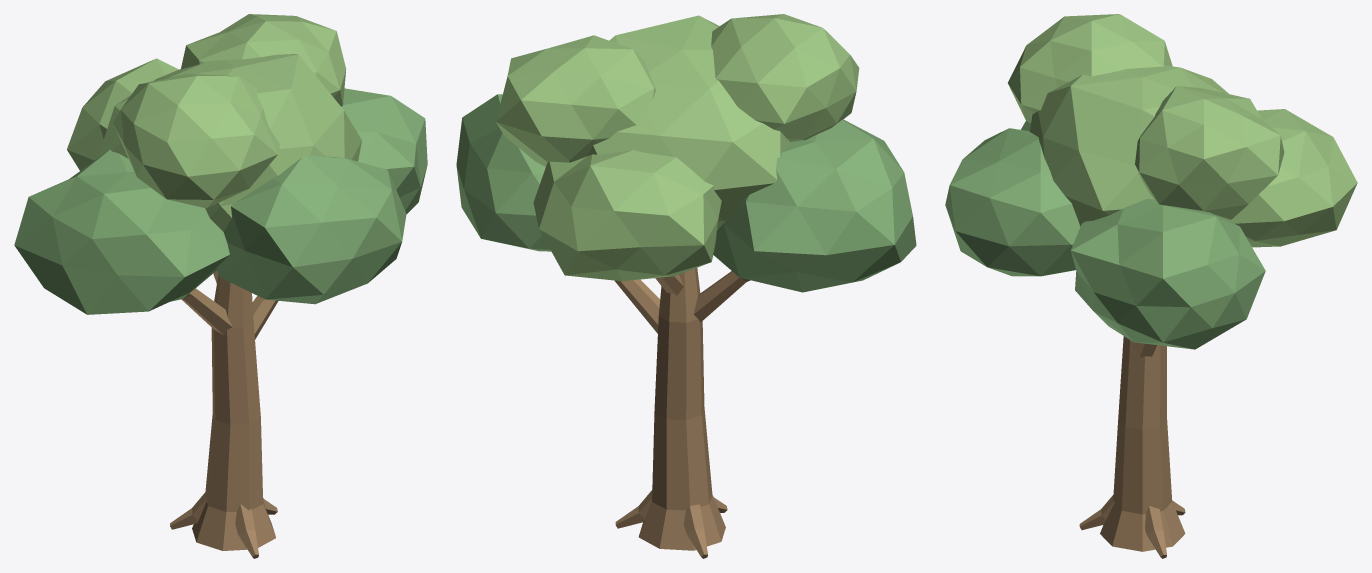
The model's file is Tree_Oak.fbx.
The picture shows the model from 3 angles, left to right: view 1: azimuth 30°, elevation 25°; view 2: azimuth 150°, elevation 25°; view 3: azimuth 270°, elevation 25°; orthographic projection. The views are drawn at different scales.
Visible parts, largest first — view 1: Tree_Oak; view 2: Tree_Oak; view 3: Tree_Oak.
Boxes of the visible parts, left/top/right/bottom form: Tree_Oak: left=14, top=14, right=427, bottom=558; Tree_Oak: left=456, top=14, right=916, bottom=558; Tree_Oak: left=945, top=14, right=1357, bottom=558.
Bounding box in the file's own units: 4.6 × 5.23 × 4.04.
